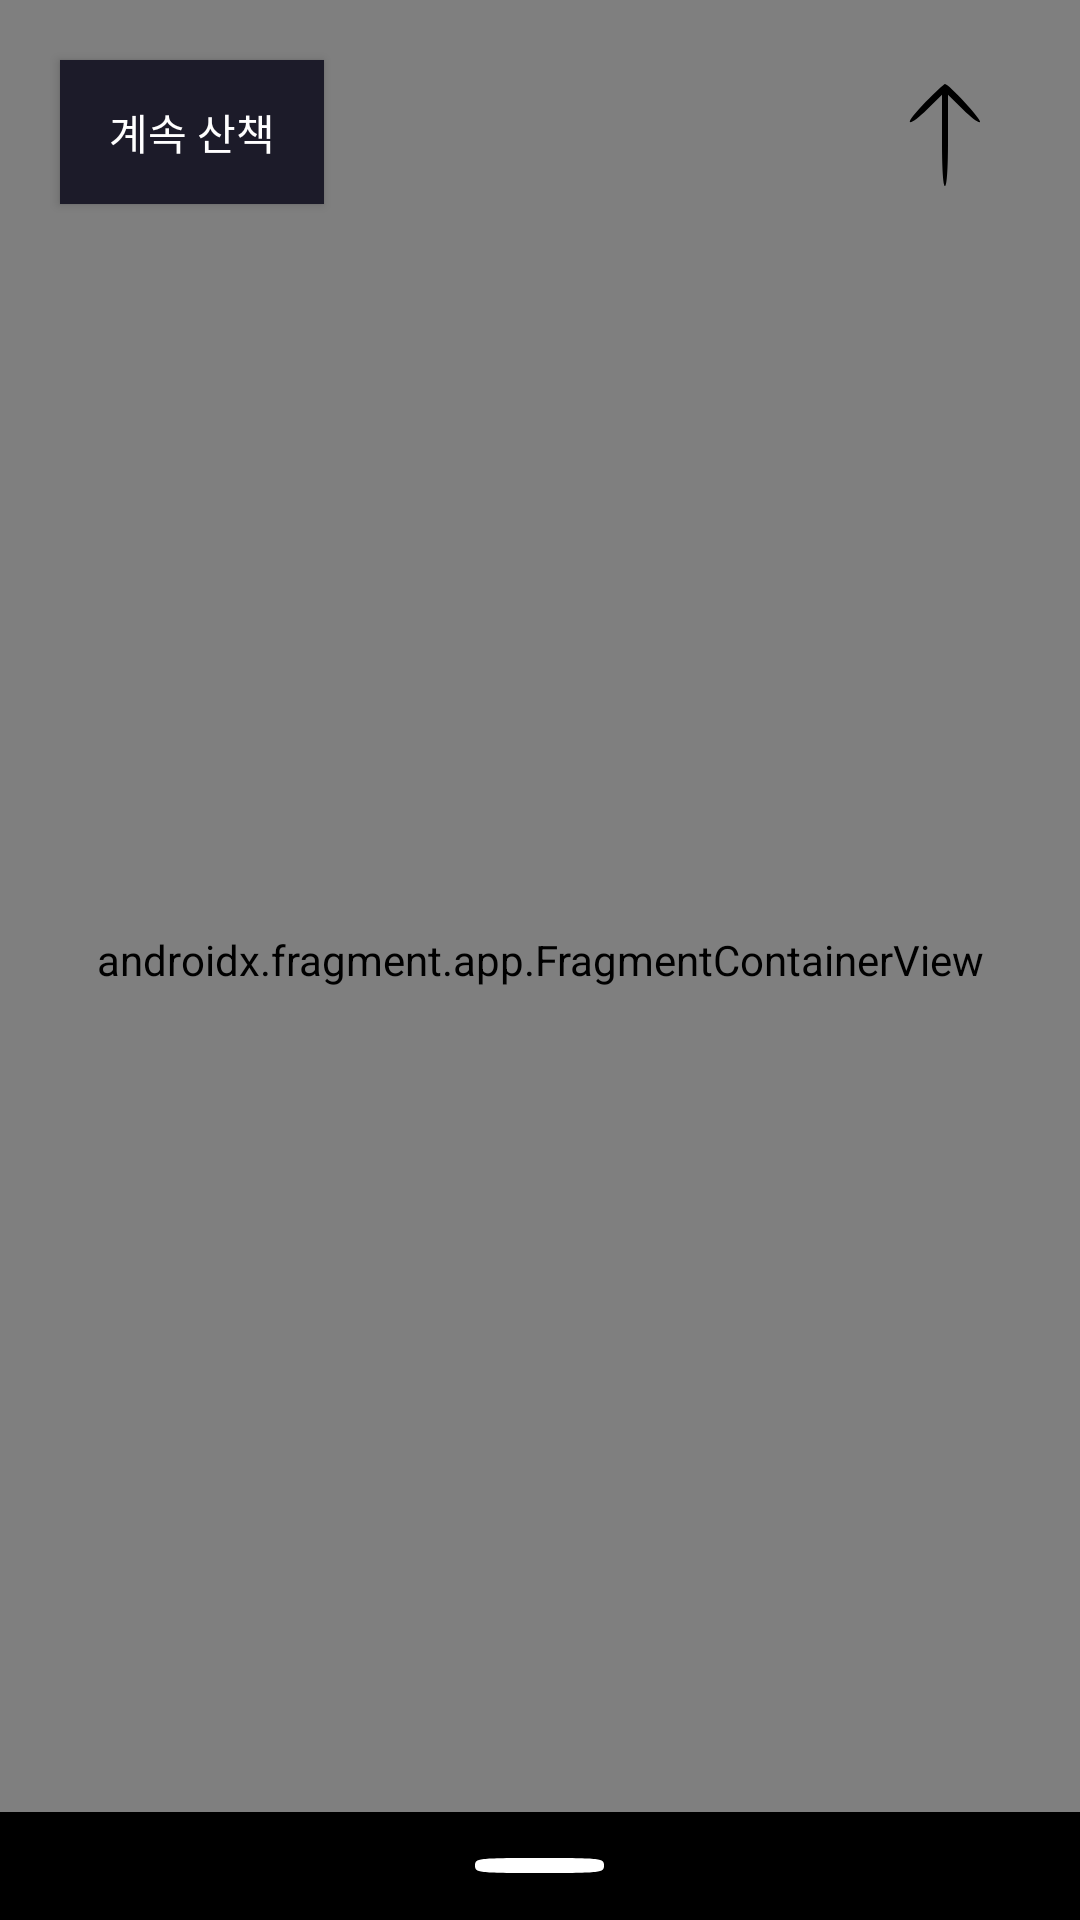

Screen size 1080*1920. Icon name, then its box in pixels as {"x1": x1, "y1": y1, "x2": x2, "y2": y2}:
arrow up: {"x1": 910, "y1": 84, "x2": 980, "y2": 186}
